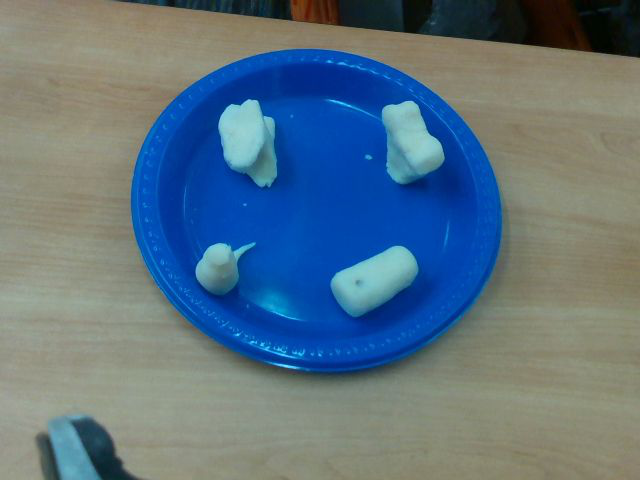mashed_potato: (331, 246, 417, 318), (381, 101, 445, 186), (219, 99, 278, 187), (195, 243, 256, 296)
